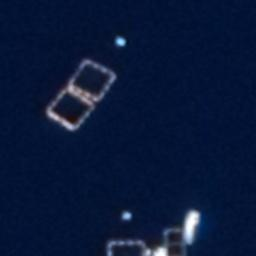square_solid: (43, 85, 96, 133), (66, 57, 118, 105)
